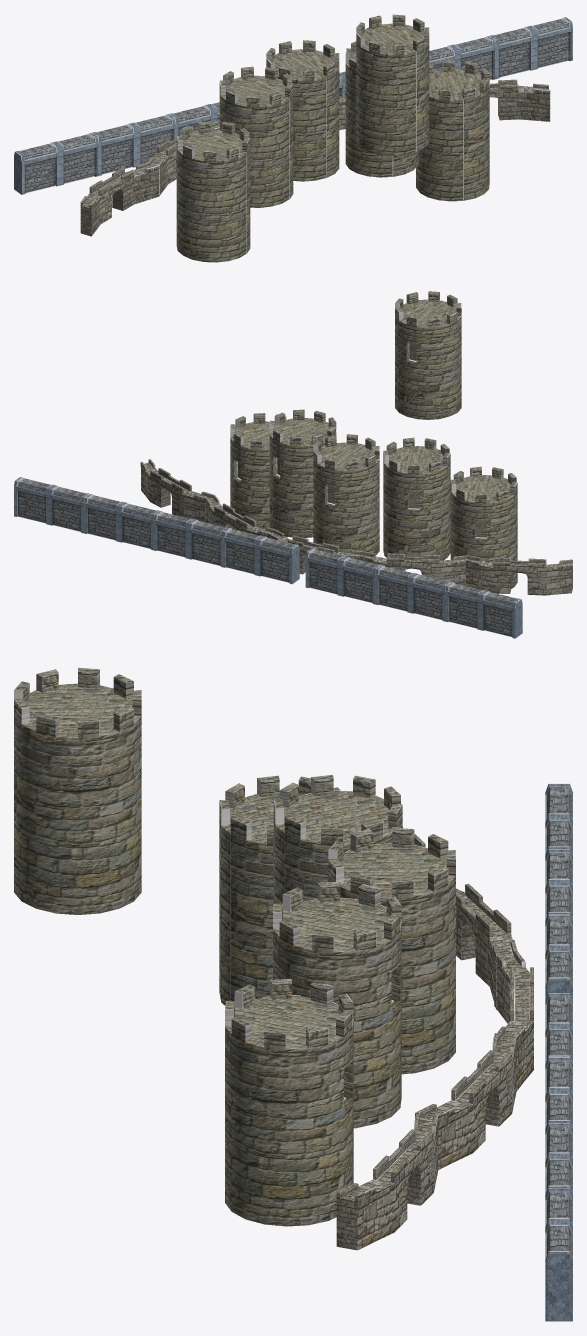
The model's file is map2.fbx.
The picture shows the model from 3 angles, top to bottom: view 1: azimuth 30°, elevation 25°; view 2: azimuth 150°, elevation 25°; view 3: azimuth 270°, elevation 25°; orthographic projection. The views are drawn at different scales.
Parts seen in each view (by area): view 1: Cylinder001__1__2, Cylinder001__1_, Cylinder001__1__1, Cylinder001_2, Cylinder001, Untitled1__2_, Untitled1__6_, Box001__1__1, Untitled1__1_, Cylinder001_1, Box001__1_, Untitled1__5_ (+2 smaller); view 2: Cylinder001__1_, Cylinder001_2, Cylinder001, Cylinder001_1, Cylinder001__1__2, Cylinder001__1__1, Box001__1__1, Untitled1__3_, Untitled1__2_, Untitled1__1_, Untitled1, Untitled1__6_ (+6 smaller); view 3: Cylinder001__1_, Cylinder001__1__1, Cylinder001_1, Cylinder001, Cylinder001__1__2, Cylinder001_2, Box001__1_, Box001_1, Box001_2, Box001, Untitled1__6_, Untitled1 (+5 smaller).
Boxes of the visible parts, x1,y1,x2,y2 form: Cylinder001__1__2: [176, 121, 250, 262]; Cylinder001__1_: [356, 14, 429, 155]; Cylinder001__1__1: [416, 60, 489, 201]; Cylinder001_2: [219, 66, 293, 207]; Cylinder001: [266, 40, 339, 181]; Untitled1__2_: [14, 133, 98, 194]; Untitled1__6_: [489, 17, 572, 79]; Box001__1__1: [80, 162, 159, 236]; Untitled1__1_: [92, 114, 175, 176]; Cylinder001_1: [345, 41, 418, 177]; Box001__1_: [489, 79, 550, 121]; Untitled1__5_: [429, 36, 496, 79]; Cylinder001__1_: [395, 291, 461, 419]; Cylinder001_2: [383, 437, 450, 560]; Cylinder001: [313, 434, 379, 556]; Cylinder001_1: [269, 409, 336, 537]; Cylinder001__1__2: [450, 466, 517, 593]; Cylinder001__1__1: [230, 413, 287, 537]; Box001__1__1: [466, 555, 572, 595]; Untitled1__3_: [222, 528, 299, 584]; Untitled1__2_: [445, 582, 522, 638]; Untitled1__1_: [375, 565, 451, 621]; Untitled1: [305, 548, 380, 604]; Untitled1__6_: [14, 477, 89, 533]; Cylinder001__1_: [14, 667, 141, 914]; Cylinder001__1__1: [225, 979, 353, 1226]; Cylinder001_1: [273, 881, 401, 1128]; Cylinder001: [328, 827, 455, 1074]; Cylinder001__1__2: [219, 775, 340, 1005]; Cylinder001_2: [273, 774, 402, 903]; Box001__1_: [336, 1112, 438, 1250]; Box001_1: [415, 1033, 516, 1169]; Box001_2: [456, 883, 517, 1010]; Box001: [493, 951, 533, 1090]; Untitled1__6_: [545, 1188, 572, 1321]; Untitled1: [545, 914, 572, 1000].
Bounding box in the file's own units: 60715 × 24272 × 30480.
Materials: 3 (3 with a texture image).
